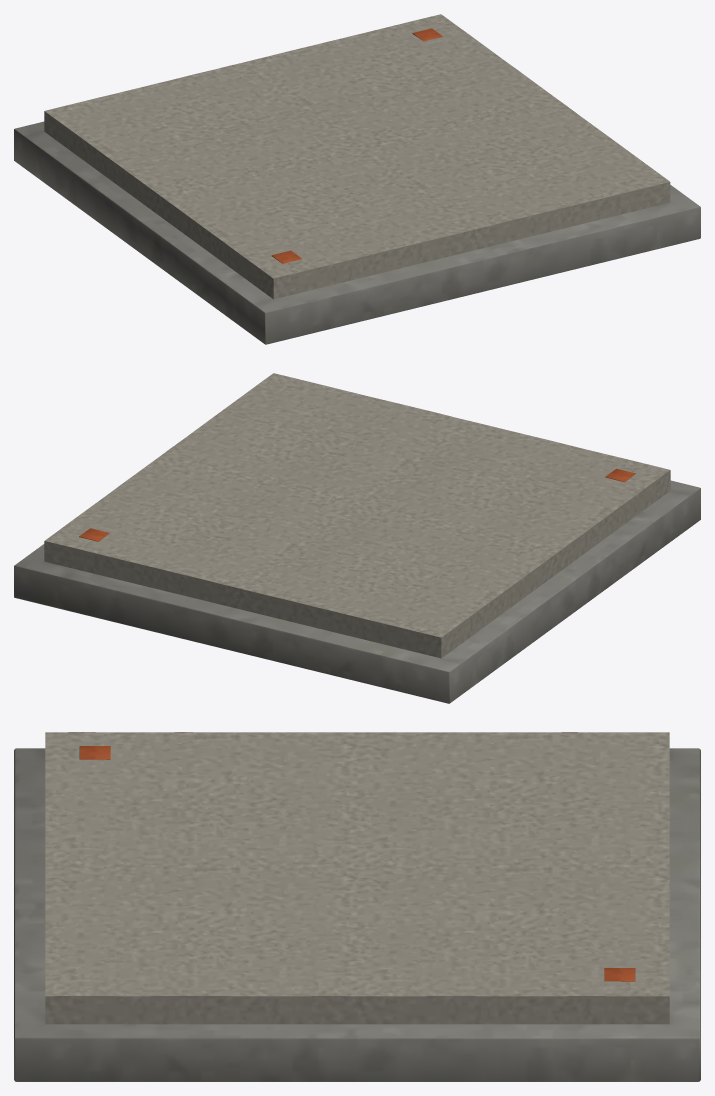
File: PIS-CTP-001_lod1.glb
The picture shows the model from 3 angles, top to bottom: view 1: azimuth 30°, elevation 25°; view 2: azimuth 150°, elevation 25°; view 3: azimuth 270°, elevation 25°; orthographic projection. The views are drawn at different scales.
Parts seen in each view (by area): view 1: PIS-CTP-001_contrapiso, PIS-CTP-001_laje; view 2: PIS-CTP-001_contrapiso, PIS-CTP-001_laje; view 3: PIS-CTP-001_contrapiso, PIS-CTP-001_laje.
Boxes of the visible parts, <box> form: PIS-CTP-001_contrapiso: <box>44,14,670,299</box>; PIS-CTP-001_laje: <box>14,121,700,344</box>; PIS-CTP-001_contrapiso: <box>44,373,670,658</box>; PIS-CTP-001_laje: <box>14,480,700,703</box>; PIS-CTP-001_contrapiso: <box>45,732,669,1024</box>; PIS-CTP-001_laje: <box>14,748,700,1081</box>.
Size of the model in its own units: 1.1 by 0.132 by 1.1.
3 materials, 3 textured.
